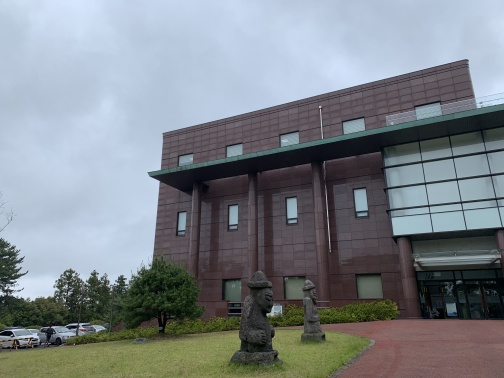Museum: (152, 56, 504, 327)
